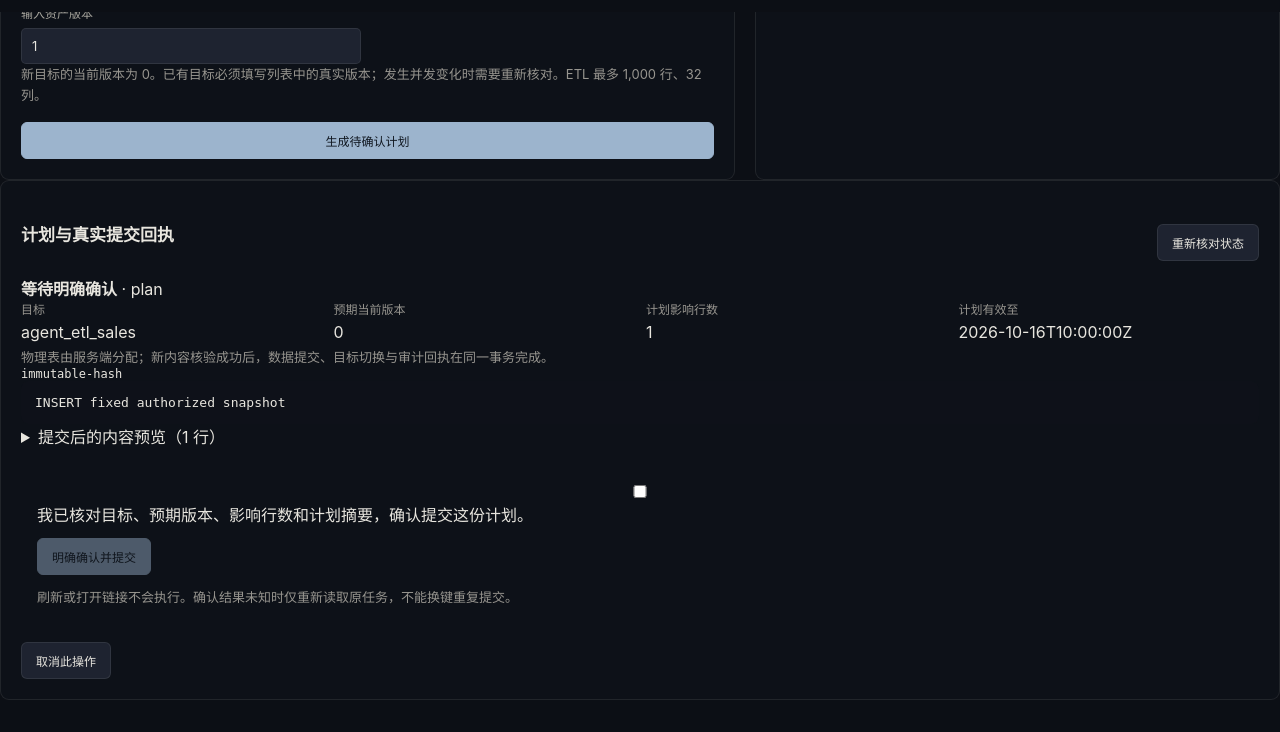
Test: governed operation confirmation workbench › does not overwrite a newly opened operation with a late cancellation response
(page scrolled)
Click the button "取消此操作".
click(66, 661)  # box [21, 642, 111, 679]
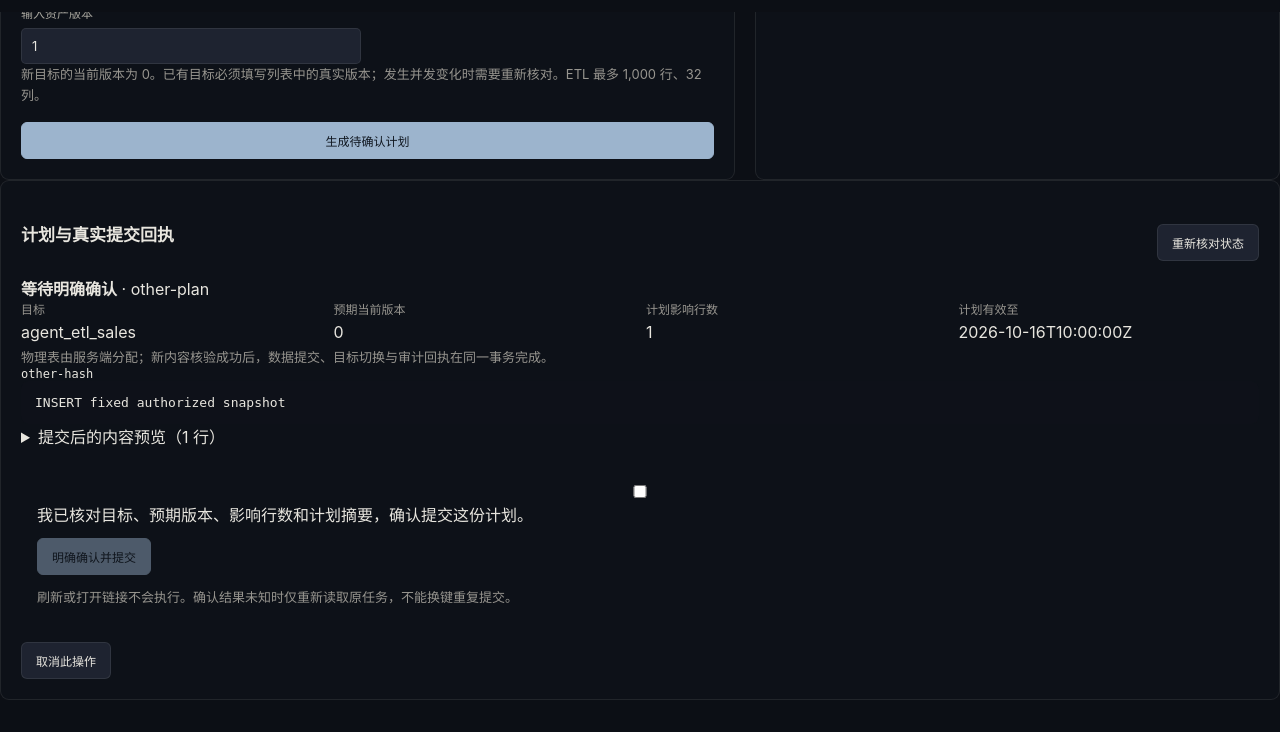
Now the text "other-hash" is shown, box [21, 367, 93, 381]
